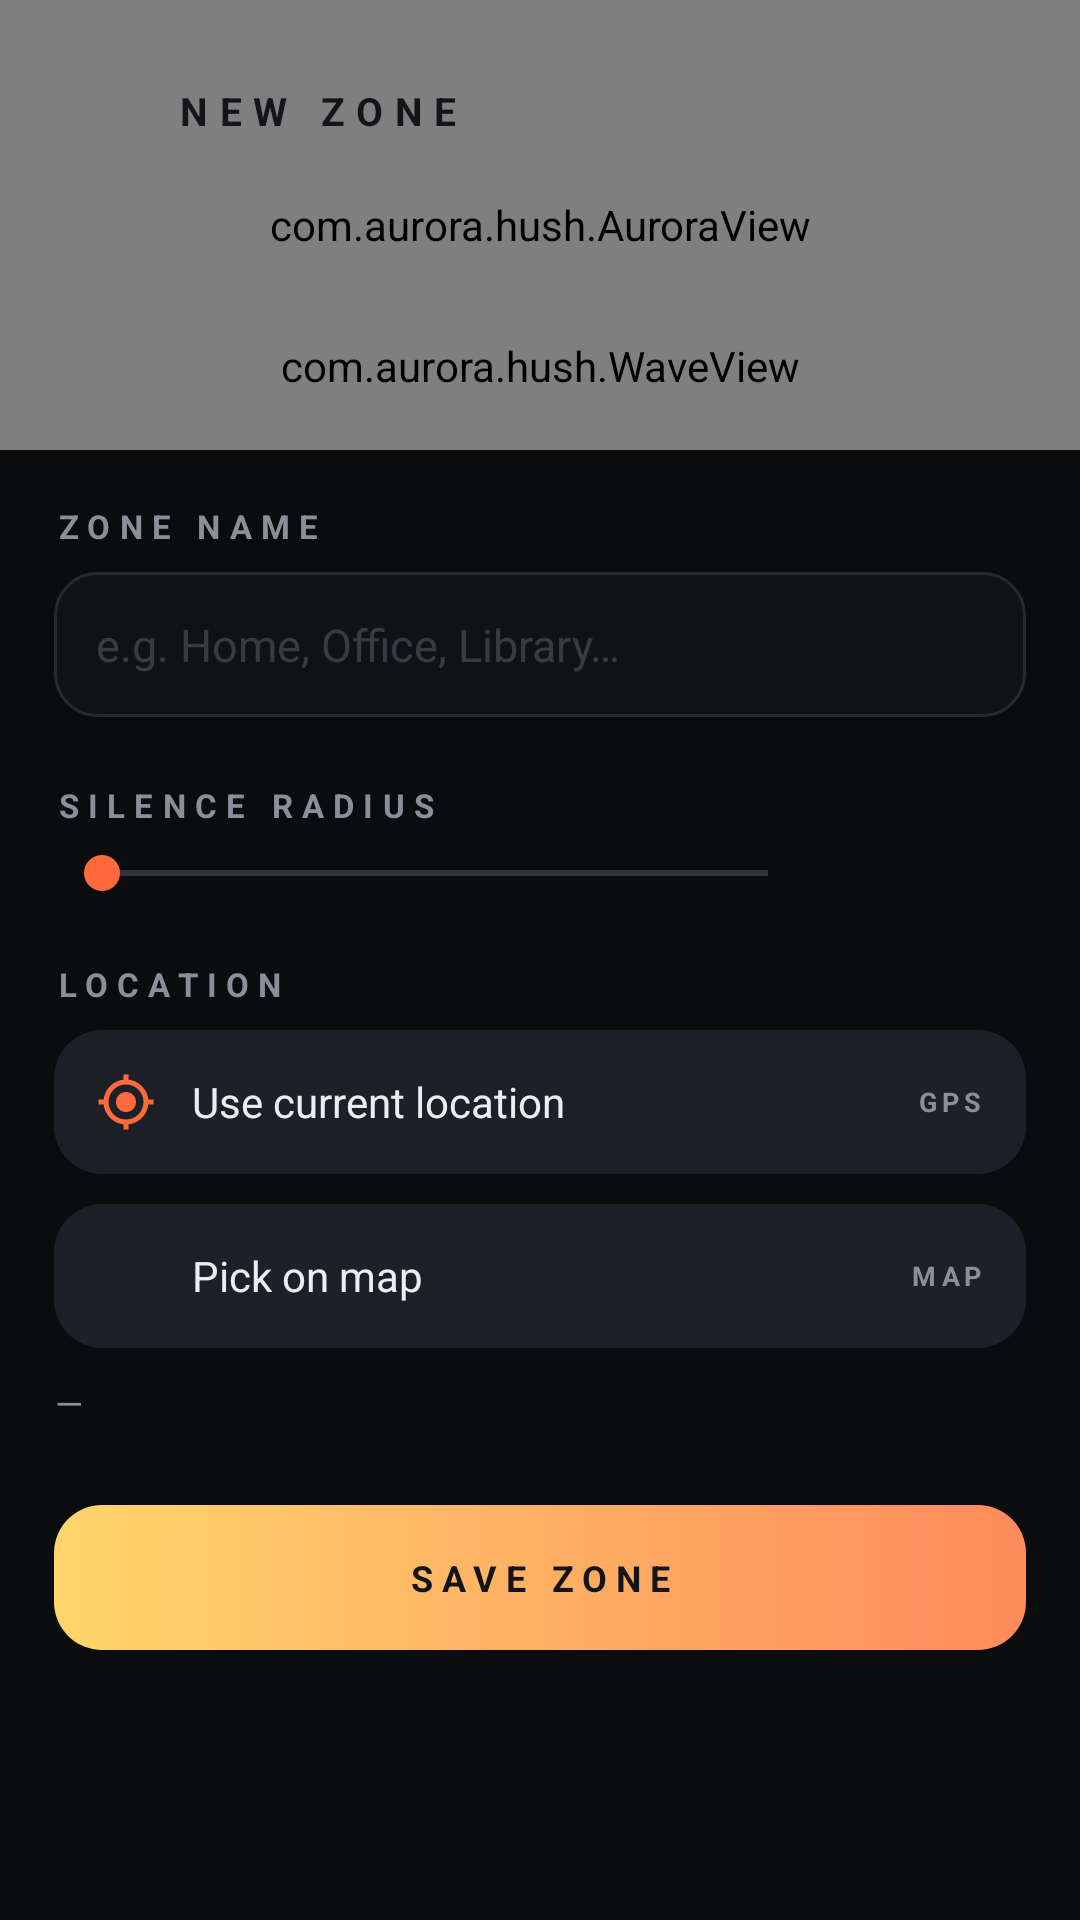

Named icons in this screenshot (1080px×1920px) and their centers, [x,y]:
crosshair: [126,1102]
